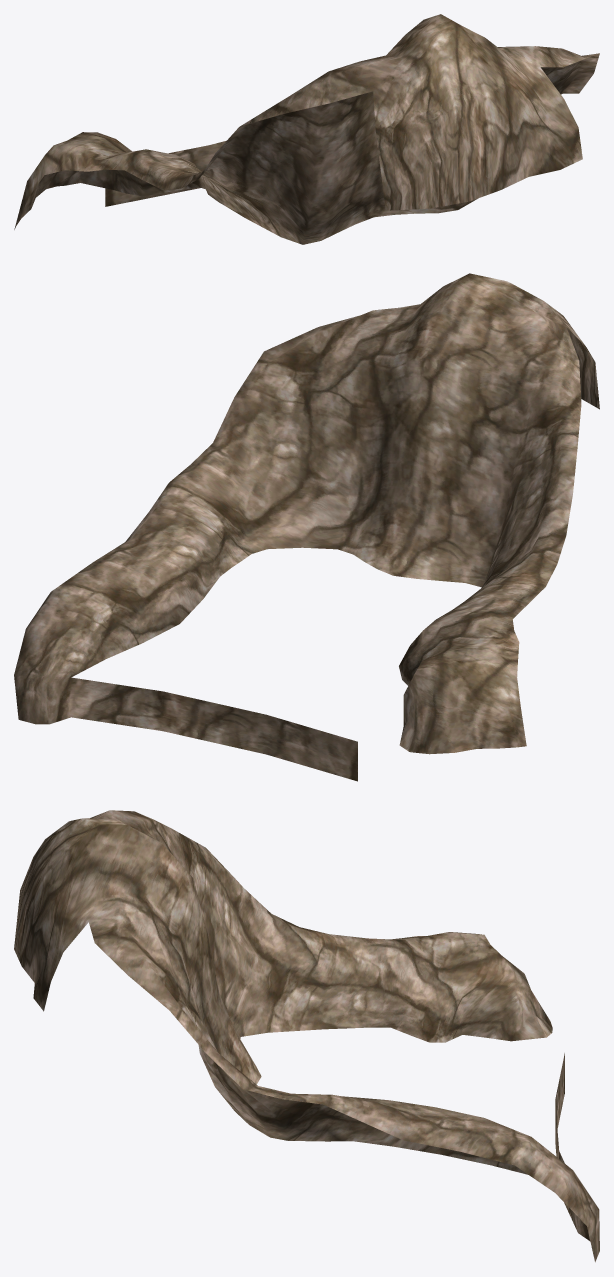
File: EKH_THRONE_PS_TH_THRONE_DAM_03.fbx
3 renders of one model, top to bottom at view 1: azimuth 30°, elevation 25°; view 2: azimuth 150°, elevation 25°; view 3: azimuth 270°, elevation 25°, orthographic. The views are drawn at different scales.
Visible parts, largest first — view 1: EKH_THRONE_PS_TH_THRONE_DAM_03; view 2: EKH_THRONE_PS_TH_THRONE_DAM_03; view 3: EKH_THRONE_PS_TH_THRONE_DAM_03.
Part boxes in pixels (bbox=[...]): EKH_THRONE_PS_TH_THRONE_DAM_03: bbox=[14, 14, 599, 244]; EKH_THRONE_PS_TH_THRONE_DAM_03: bbox=[14, 273, 599, 781]; EKH_THRONE_PS_TH_THRONE_DAM_03: bbox=[14, 810, 599, 1262].
Bounding box in the file's own units: 109083 × 72136 × 115587.
Materials: 1 (1 with a texture image).
